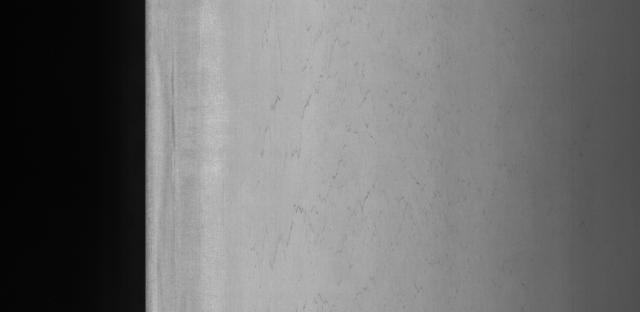silk_spot: (252, 28, 414, 268)
